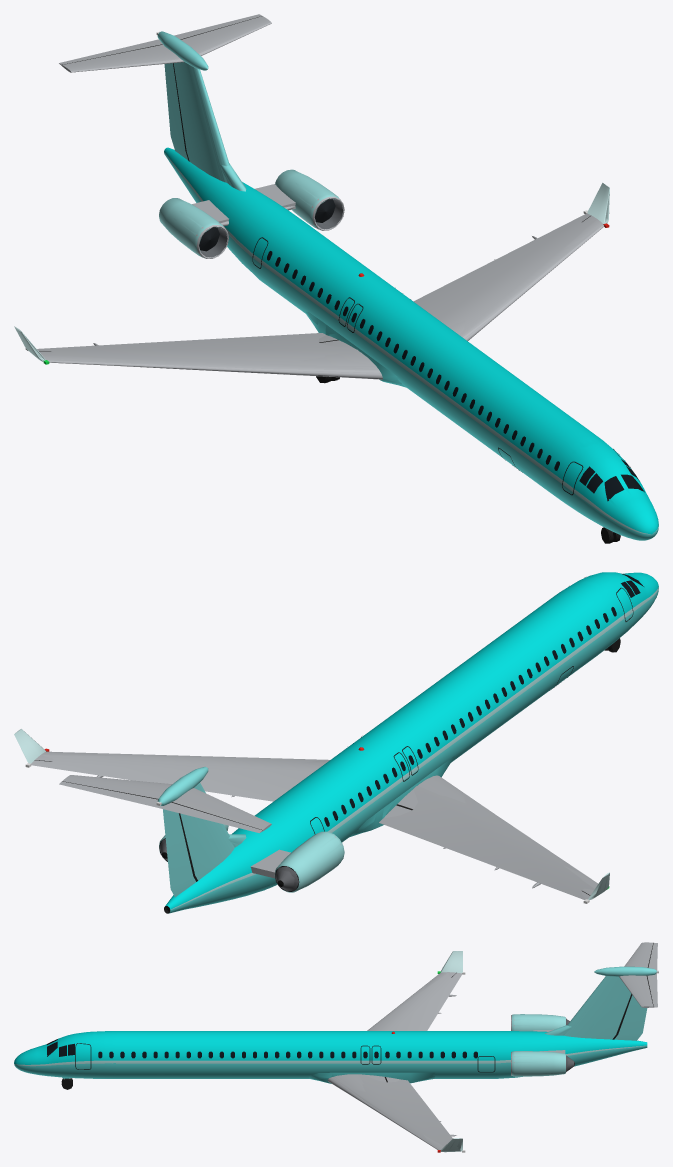
The model's file is ac-regional.glb.
3 renders of one model, top to bottom at view 1: azimuth 30°, elevation 25°; view 2: azimuth 150°, elevation 25°; view 3: azimuth 270°, elevation 25°, orthographic. The views are drawn at different scales.
Visible parts, largest first — view 1: lod0_body, lod2_body, lod1_body; view 2: lod0_body, lod2_body, lod1_body; view 3: lod0_body, lod2_body, lod1_body.
Boxes of the visible parts, bbox=[...] form: lod0_body: bbox=[14, 14, 658, 540]; lod2_body: bbox=[18, 19, 655, 523]; lod1_body: bbox=[15, 16, 658, 540]; lod0_body: bbox=[15, 572, 658, 913]; lod2_body: bbox=[14, 574, 648, 913]; lod1_body: bbox=[15, 572, 658, 913]; lod0_body: bbox=[14, 942, 658, 1152]; lod2_body: bbox=[21, 944, 657, 1150]; lod1_body: bbox=[19, 942, 657, 1150].
Size of the model in its own units: 24.98 by 7.5 by 36.21.
